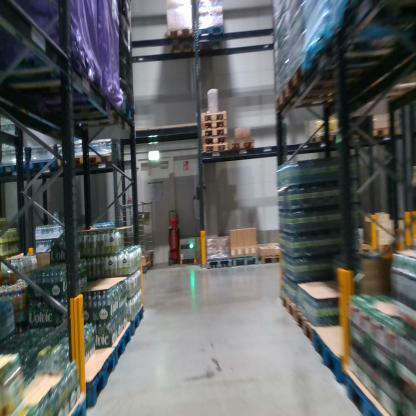pallet: (269, 78, 375, 111), (55, 95, 136, 135), (287, 58, 367, 92), (76, 349, 117, 411), (310, 323, 348, 385), (347, 371, 392, 414), (165, 23, 198, 60), (194, 22, 224, 59), (110, 320, 132, 370), (123, 304, 147, 341), (295, 305, 313, 354), (25, 153, 55, 176), (86, 150, 119, 169), (367, 126, 401, 144), (259, 249, 285, 271), (229, 137, 257, 157), (55, 152, 87, 169), (67, 393, 91, 415), (343, 245, 375, 261), (278, 295, 296, 323), (232, 251, 259, 269), (1, 160, 22, 180), (311, 134, 340, 148), (200, 138, 232, 150), (206, 257, 232, 271), (199, 111, 228, 123), (201, 123, 228, 135), (200, 146, 229, 157), (201, 128, 228, 139)
